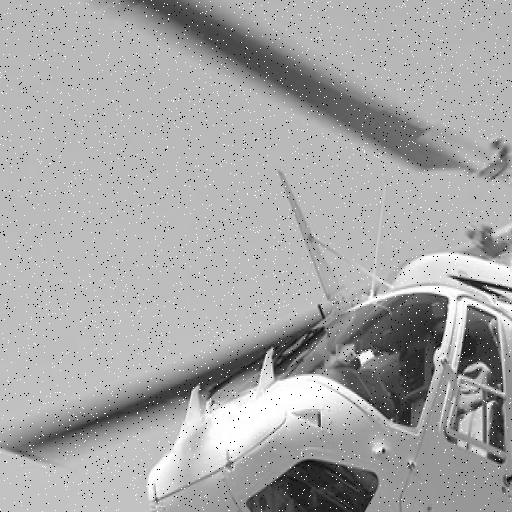helicopter: (42, 1, 512, 512)
